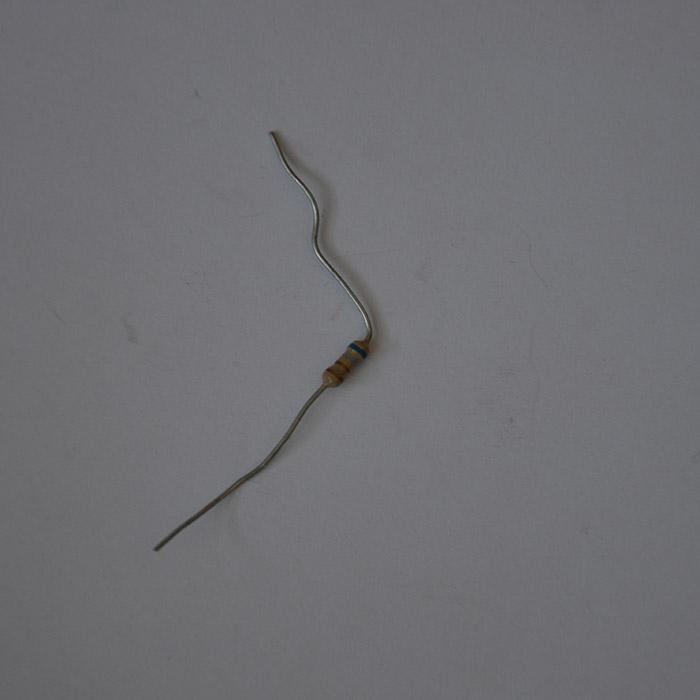resistor: (325, 338, 369, 386)
